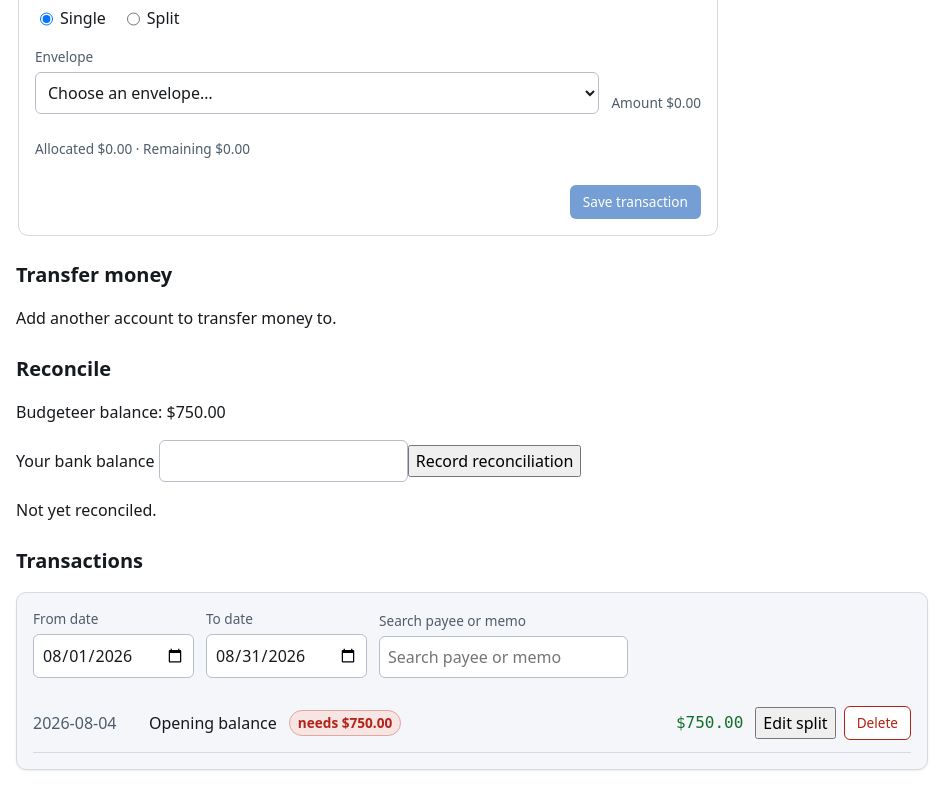
Test: ReconcilePanel (FEAT-010) › shows the live difference, records a reconciliation, and surfaces last-reconciled
(page scrolled)
expect the text "Budgeteer balance: $750.00" is shown: met, box [16, 402, 226, 424]
expect the text "Not yet reconciled." is shown: met, box [16, 500, 156, 522]
// Enter a bank balance $50 higher → live difference shown before recording.
Type "800.00" into the field labelled "bank balance" at (283, 462), box [159, 440, 408, 482]
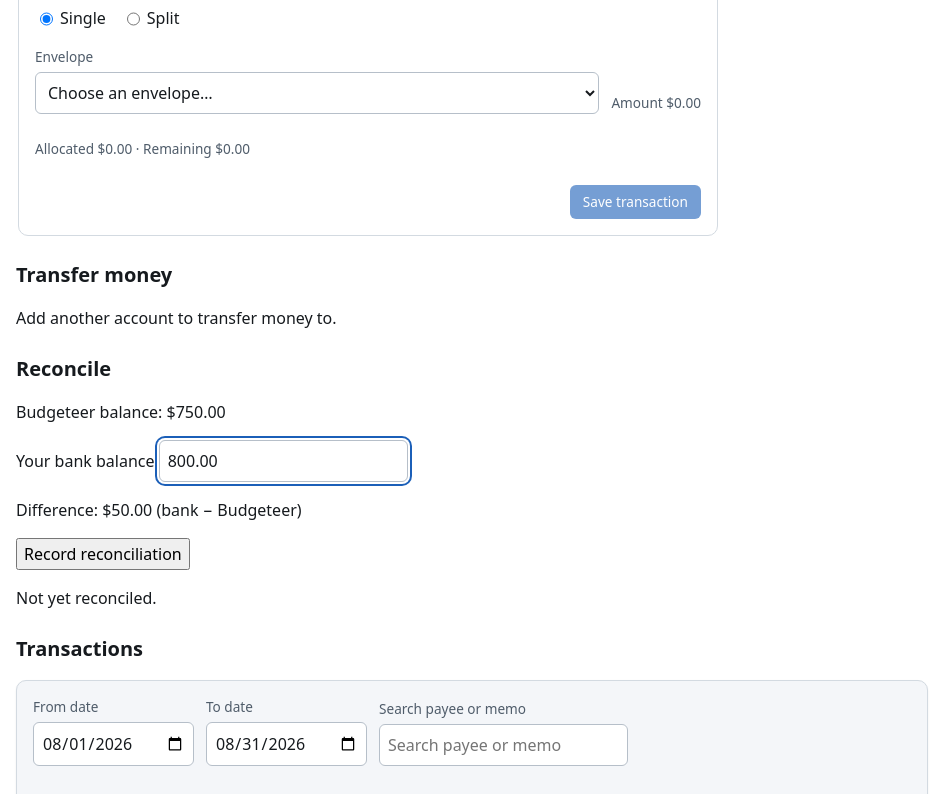
expect the text "Difference: $50.00 (bank − Budgeteer)" is shown: met, box [16, 500, 302, 522]
Click the button "Record reconciliation" at (103, 554), box [16, 538, 190, 570]
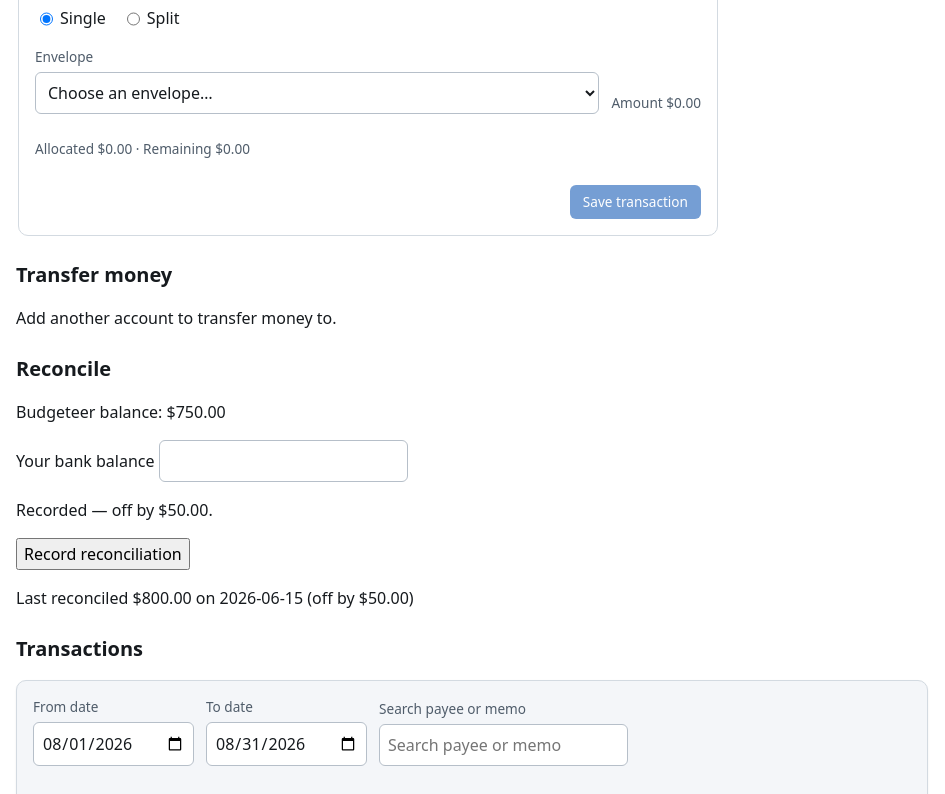
expect the text "Recorded — off by $50.00." is shown: met, box [16, 500, 213, 522]
expect the text "Last reconciled $800.00 on 2026-06-15 (off by $50.00)" is shown: met, box [16, 588, 414, 610]
